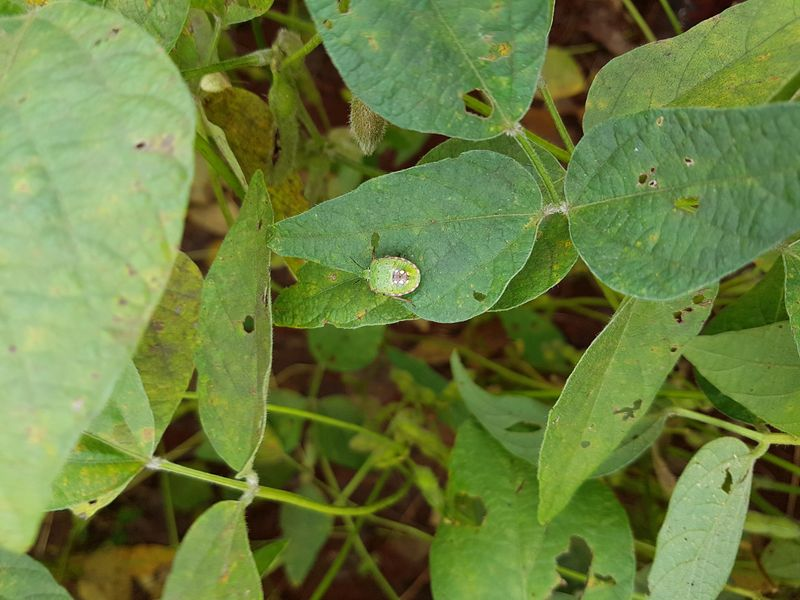Euschistus_heros_ninfa: (195, 65, 239, 100)
Nezara_viridula_ninfa: (339, 237, 431, 314)
